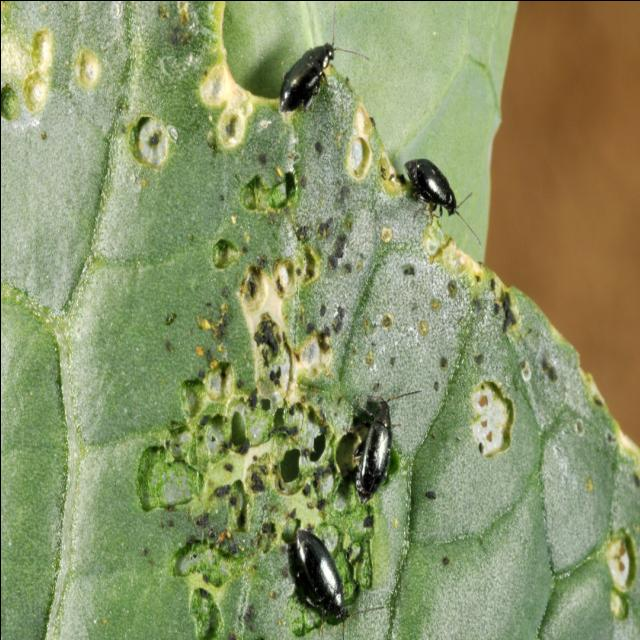flea_beetle: (330, 370, 422, 504), (287, 518, 392, 634), (268, 7, 366, 122), (399, 132, 485, 254)
